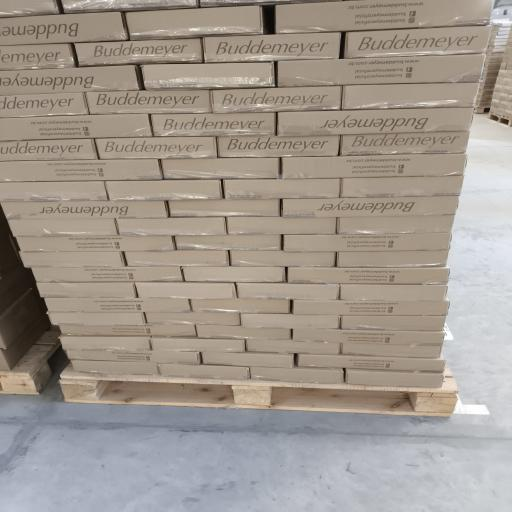pallet: (61, 365, 457, 416), (0, 338, 60, 394), (489, 114, 511, 126), (475, 107, 489, 113)
